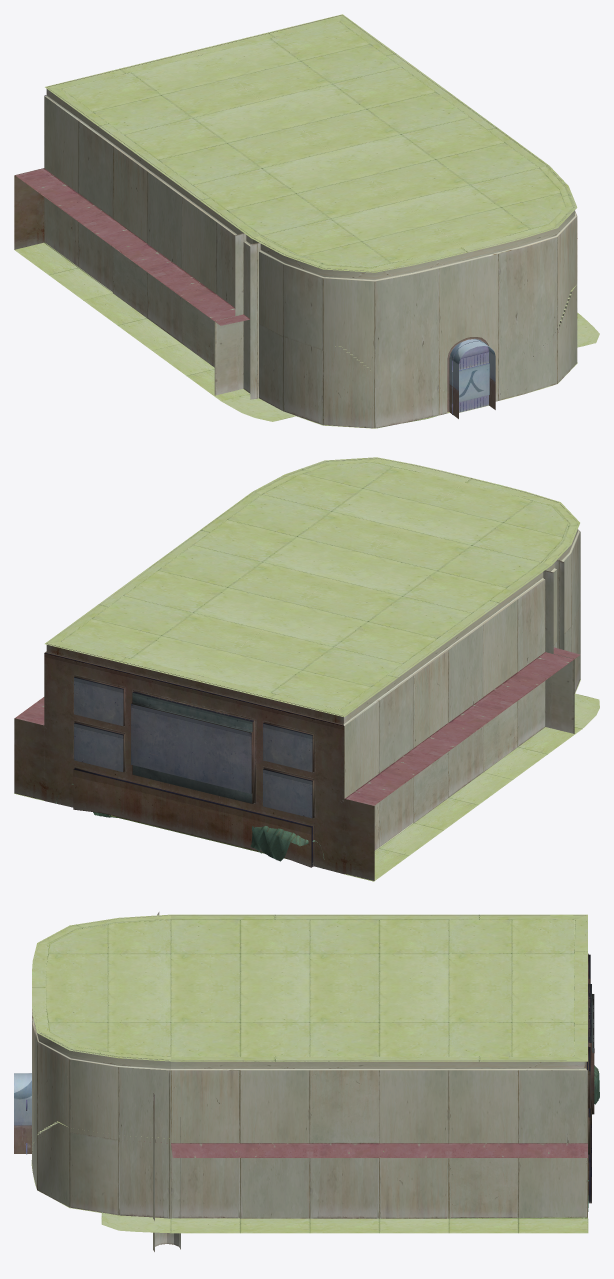
The model's file is Sala Examen Chunnin.fbx.
The picture shows the model from 3 angles, top to bottom: view 1: azimuth 30°, elevation 25°; view 2: azimuth 150°, elevation 25°; view 3: azimuth 270°, elevation 25°; orthographic projection.
Visible parts, largest first — view 1: 24__Mesh6_Mesh6_0_1_0_0, 24_Mesh4_0_0_0, 24_Mesh3_0_0_0, 24_Mesh11_0_0_0, 24_Mesh1_0_0_0_root_root, 24_Mesh27_0_0_0, 24_Mesh23_0_0_0, 24_Mesh7_0_0_0, 24_Mesh5_0_0_0; view 2: 24__Mesh6_Mesh6_0_1_0_0, 24_Mesh5_0_0_0, 24_Mesh3_0_0_0, 24_Mesh11_0_0_0, 24_Mesh1_0_0_0_root_root, 24_Mesh27_0_0_0, 24_Mesh23_0_0_0, 24_Mesh4_0_0_0, 24_Mesh15_0_0_0; view 3: 24__Mesh6_Mesh6_0_1_0_0, 24_Mesh2_0_0_0, 24_Mesh10_0_0_0, 24_Mesh4_0_0_0, 24_Mesh1_0_0_0_root_root, 24_Mesh28_0_0_0, 24_Mesh7_0_0_0, 24_Mesh5_0_0_0, 24_Mesh24_0_0_0.
Part boxes in pixels (x1=…): 24__Mesh6_Mesh6_0_1_0_0: x1=45, y1=14, x2=577, y2=272; 24_Mesh4_0_0_0: x1=253, y1=166, x2=577, y2=428; 24_Mesh3_0_0_0: x1=44, y1=88, x2=252, y2=318; 24_Mesh11_0_0_0: x1=44, y1=169, x2=250, y2=393; 24_Mesh1_0_0_0_root_root: x1=14, y1=242, x2=599, y2=428; 24_Mesh27_0_0_0: x1=15, y1=168, x2=250, y2=325; 24_Mesh23_0_0_0: x1=214, y1=233, x2=260, y2=399; 24_Mesh7_0_0_0: x1=447, y1=337, x2=495, y2=418; 24_Mesh5_0_0_0: x1=14, y1=15, x2=341, y2=249; 24__Mesh6_Mesh6_0_1_0_0: x1=45, y1=457, x2=579, y2=716; 24_Mesh5_0_0_0: x1=14, y1=643, x2=374, y2=880; 24_Mesh3_0_0_0: x1=343, y1=565, x2=549, y2=798; 24_Mesh11_0_0_0: x1=346, y1=652, x2=545, y2=850; 24_Mesh1_0_0_0_root_root: x1=14, y1=679, x2=599, y2=881; 24_Mesh27_0_0_0: x1=345, y1=647, x2=580, y2=805; 24_Mesh23_0_0_0: x1=543, y1=560, x2=574, y2=733; 24_Mesh4_0_0_0: x1=255, y1=458, x2=580, y2=693; 24_Mesh15_0_0_0: x1=250, y1=826, x2=324, y2=863; 24__Mesh6_Mesh6_0_1_0_0: x1=32, y1=914, x2=587, y2=1061; 24_Mesh2_0_0_0: x1=171, y1=1060, x2=587, y2=1143; 24_Mesh10_0_0_0: x1=171, y1=1143, x2=587, y2=1218; 24_Mesh4_0_0_0: x1=32, y1=915, x2=170, y2=1218; 24_Mesh1_0_0_0_root_root: x1=31, y1=1160, x2=588, y2=1233; 24_Mesh28_0_0_0: x1=171, y1=1143, x2=587, y2=1157; 24_Mesh7_0_0_0: x1=14, y1=1073, x2=31, y2=1154; 24_Mesh5_0_0_0: x1=586, y1=953, x2=594, y2=1203; 24_Mesh24_0_0_0: x1=153, y1=1092, x2=180, y2=1251.
Bounding box in the file's own units: 565 × 281 × 792.
Materials: 19 (19 with a texture image).
